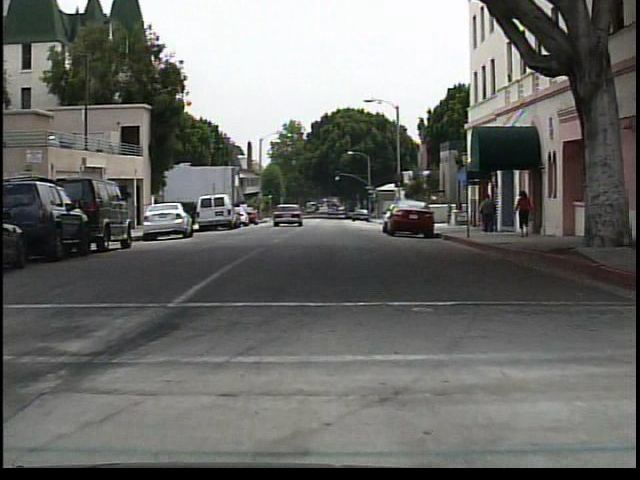person: (514, 185, 536, 240), (476, 191, 498, 236)
